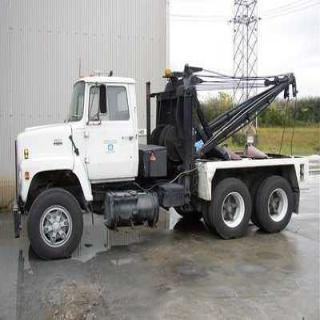Towing_truck: (12, 62, 302, 260)
